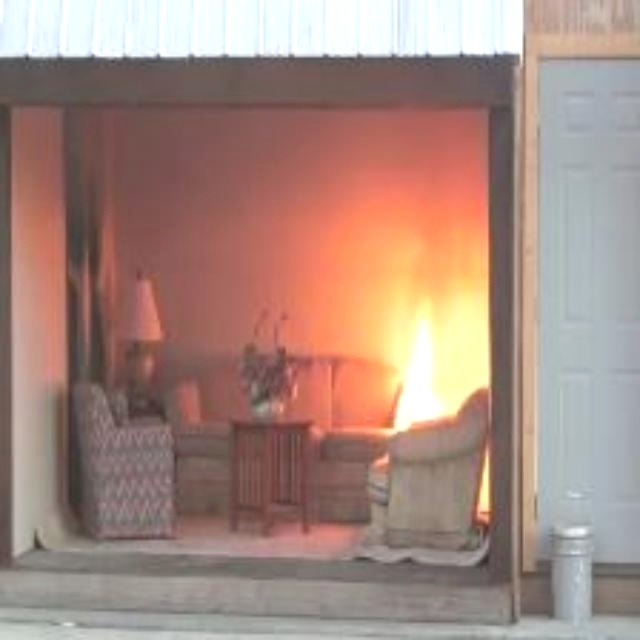fire: (370, 244, 479, 431)
